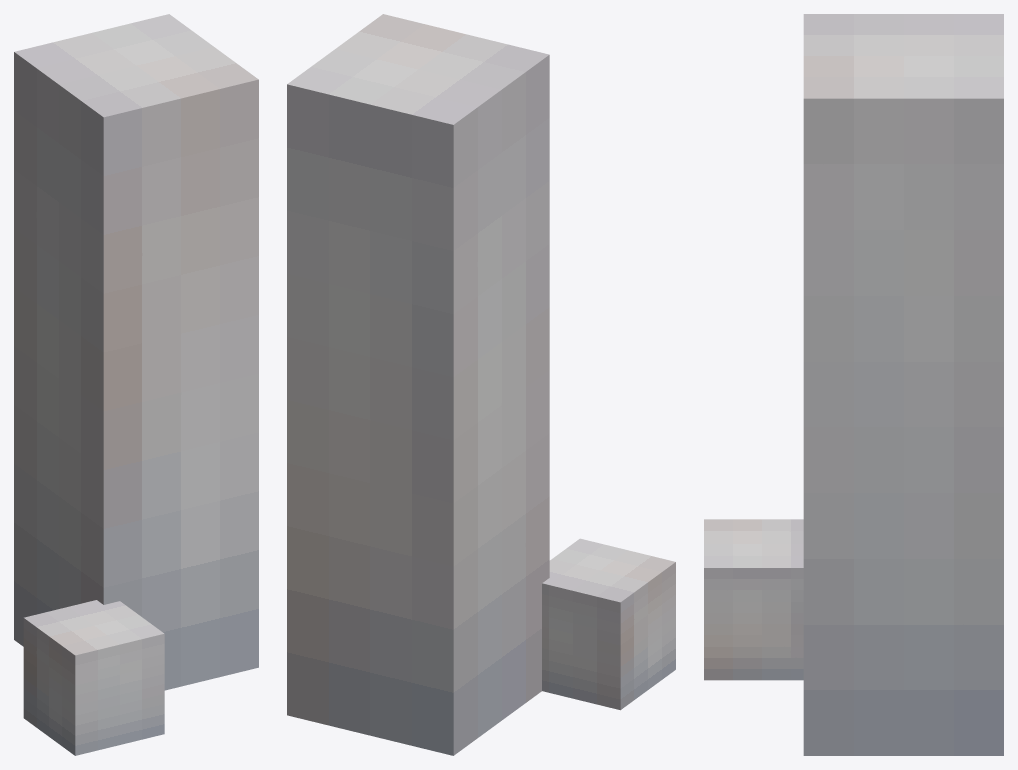
Rendered from dolomite_crystal_two.obj.
3 views of the same model, side by side, from view 1: azimuth 30°, elevation 25°; view 2: azimuth 150°, elevation 25°; view 3: azimuth 270°, elevation 25° (orthographic). The views are drawn at different scales.
Parts seen in each view (by area): view 1: Crystal5_Cube.008; view 2: Crystal5_Cube.008; view 3: Crystal5_Cube.008.
Boxes of the visible parts, x1,y1,x2,y2 form: Crystal5_Cube.008: [14, 14, 258, 755]; Crystal5_Cube.008: [287, 14, 675, 755]; Crystal5_Cube.008: [704, 14, 1003, 755].
Bounding box in the file's own units: 0.1355 × 0.3335 × 0.1379.
